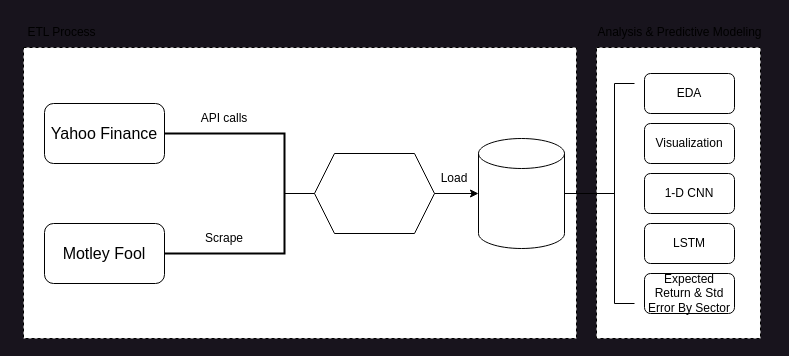
The diagram is 789 pixels wide and 356 high, and some of its shapes have lost their labels. Here are the shapes that lost their labels. From the top down, the box of each, then its label:
(314, 152, 434, 234): Preprocessing
(478, 138, 564, 248): Postgresql Database
